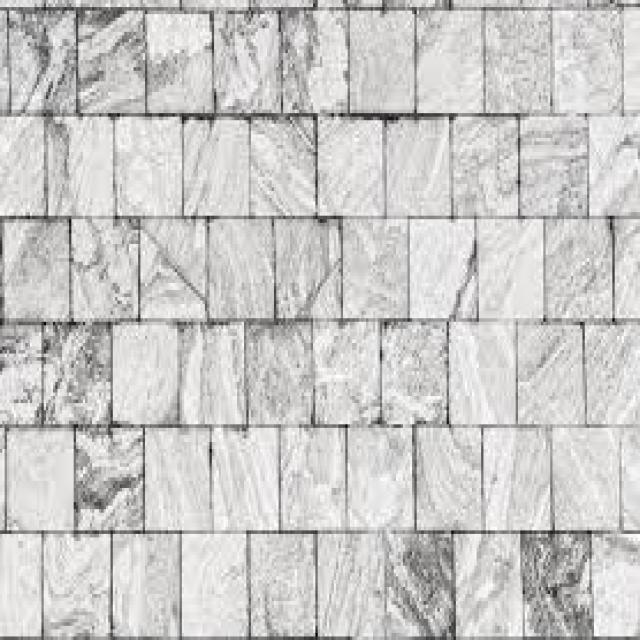Metamorphic: (2, 7, 636, 633)
